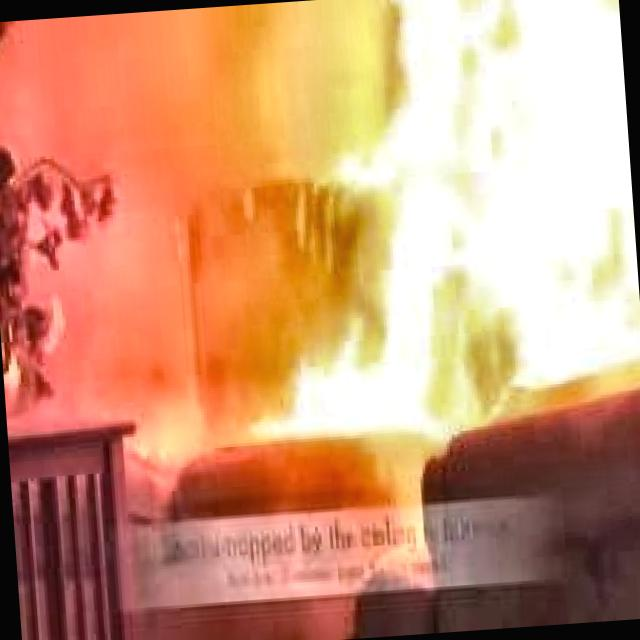fire: (241, 0, 640, 453)
